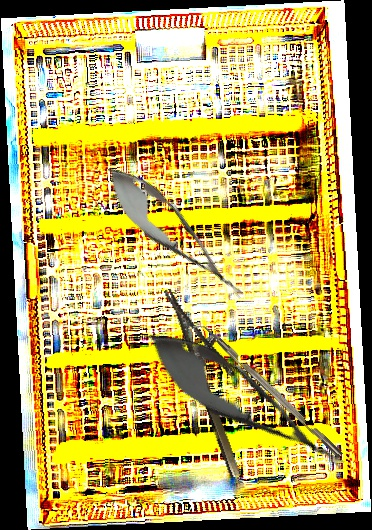Chopper: (190, 317, 344, 465)
Micro Scissor: (131, 313, 359, 490), (92, 153, 258, 313)
Needle Holder: (163, 277, 267, 480)
